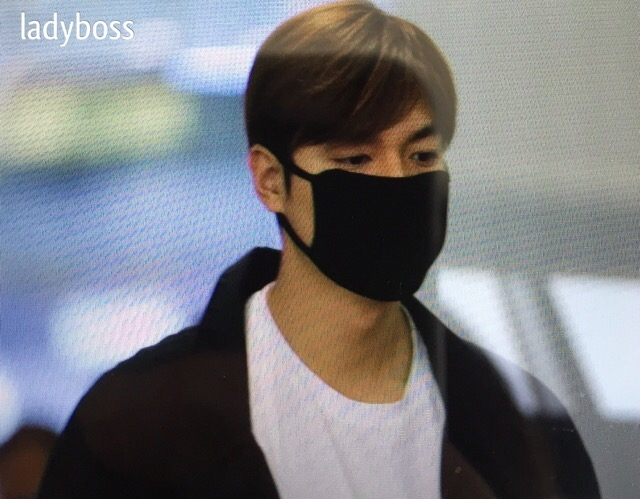face_mask: (293, 77, 451, 291)
